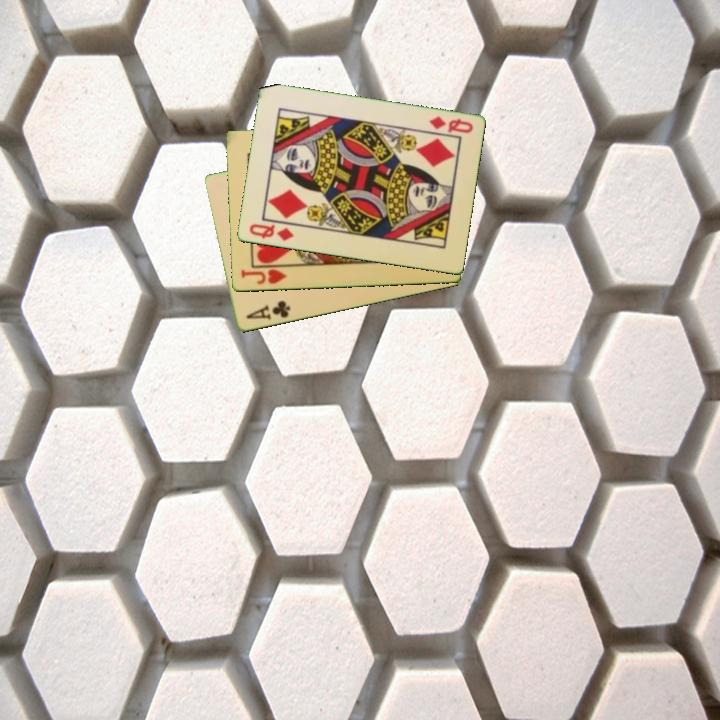Ac: (242, 297, 293, 323)
Jh: (237, 263, 293, 288)
Qd: (245, 220, 297, 244), (425, 113, 476, 136)
